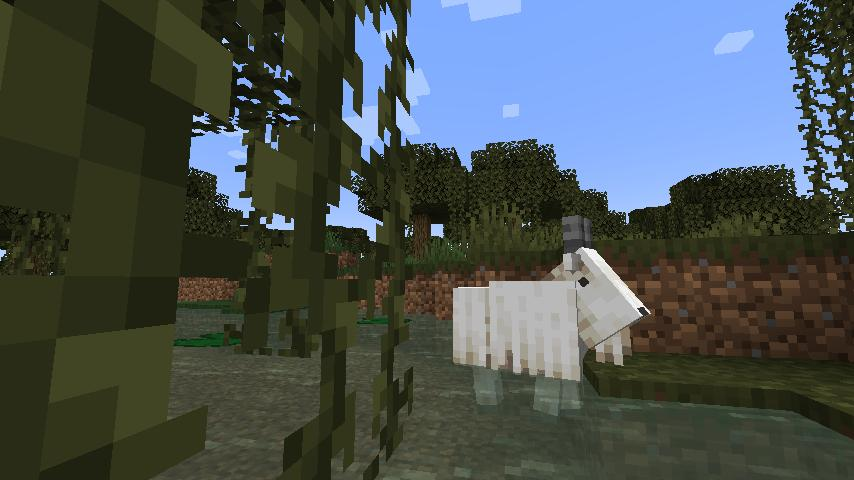goat: (447, 213, 653, 419)
